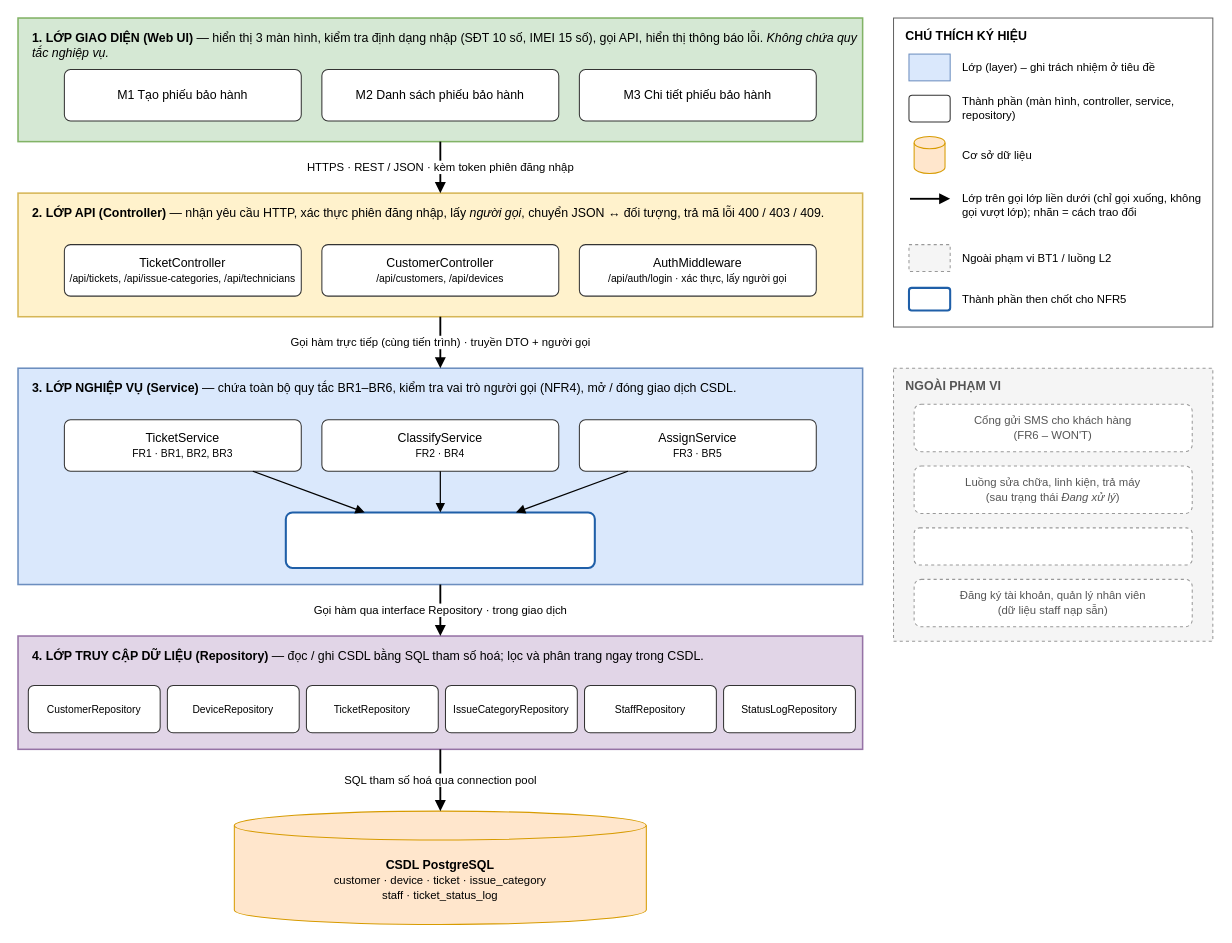
This 1232x943 diagram has some shape labels left out. Each missing label, with the centre of its shape:
"StatusService FR5 · BR6 · nơi DUY NHẤT đổi trạng thái + ghi lịch sử" goes at point (439, 540).
"Thiết kế triển khai, máy chủ, mạng" goes at point (1052, 546).
